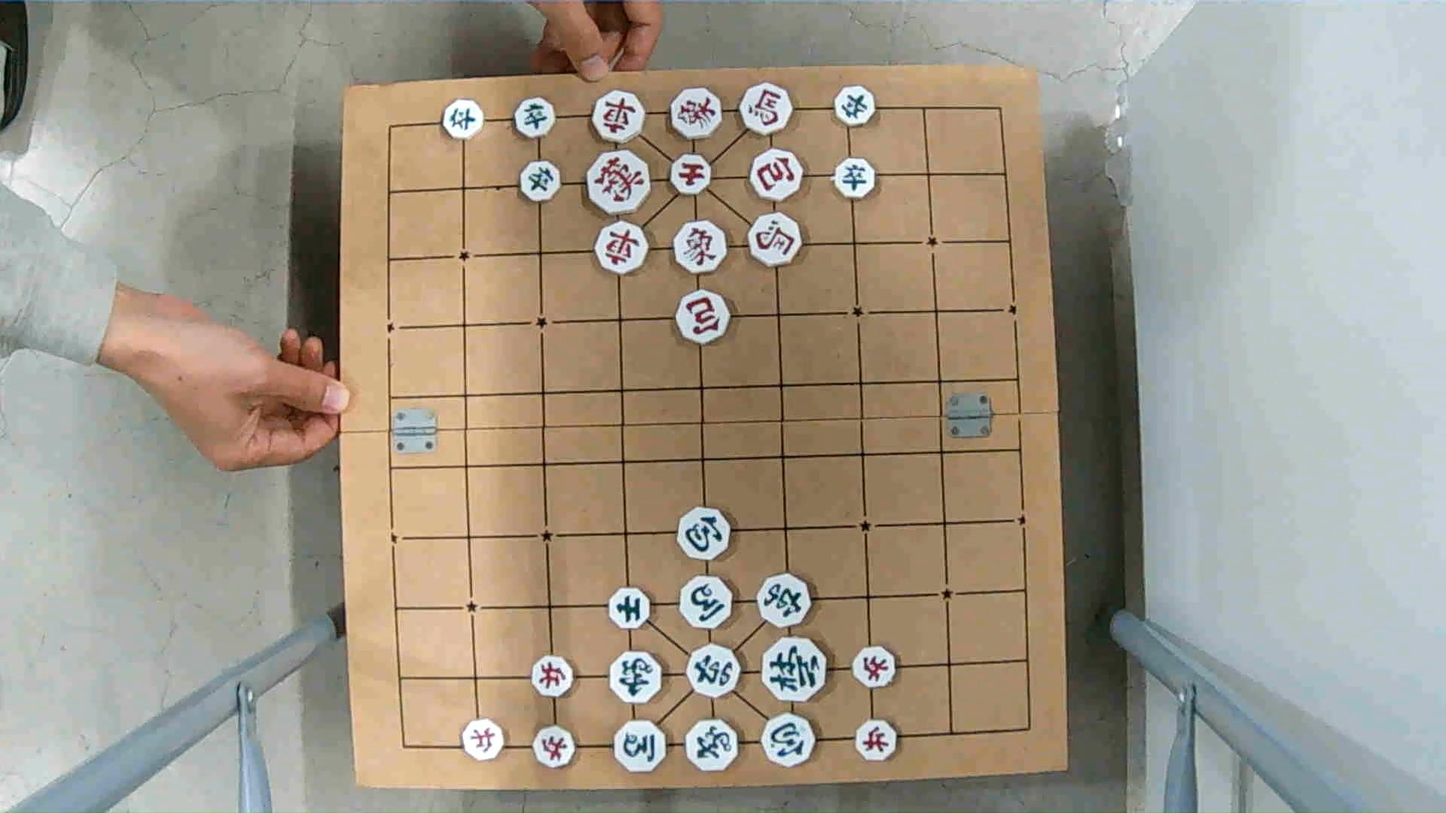cha_green: (758, 574, 813, 627), (685, 647, 740, 696)
cha_red: (595, 224, 651, 272), (590, 90, 642, 141)
jol_green: (831, 160, 877, 198), (443, 102, 487, 140), (514, 100, 557, 138), (835, 86, 879, 123), (522, 163, 563, 201)
jol_red: (856, 718, 899, 763), (534, 723, 577, 766), (850, 647, 897, 686), (532, 657, 578, 696), (463, 720, 506, 759)
ma_green: (678, 577, 733, 627), (613, 721, 669, 769)
ma_red: (738, 84, 792, 136), (752, 215, 808, 264)
po_green: (676, 507, 734, 562), (761, 714, 817, 765)
po_red: (677, 293, 734, 343), (750, 152, 804, 201)
sa_green: (612, 589, 654, 629)
sa_red: (671, 156, 715, 193)
sang_green: (610, 653, 665, 707), (686, 717, 739, 770)
sang_red: (674, 221, 731, 272), (669, 90, 723, 139)
wang_green: (763, 635, 826, 702)
wang_red: (587, 154, 651, 213)
